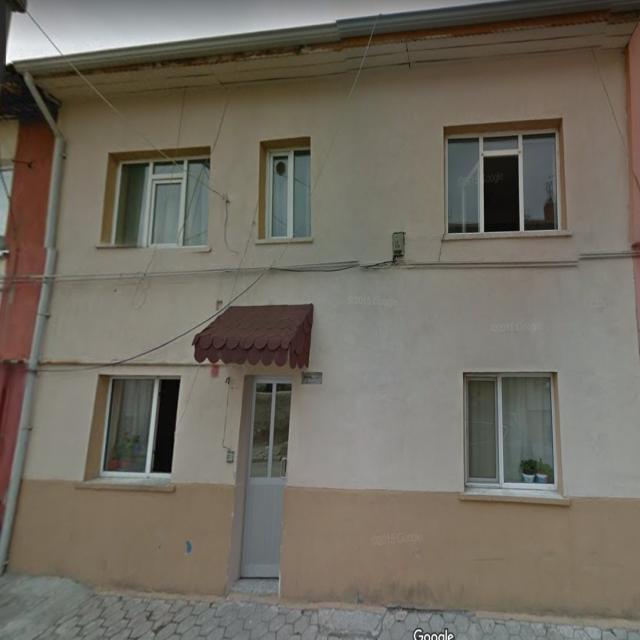Building: (3, 0, 639, 631)
